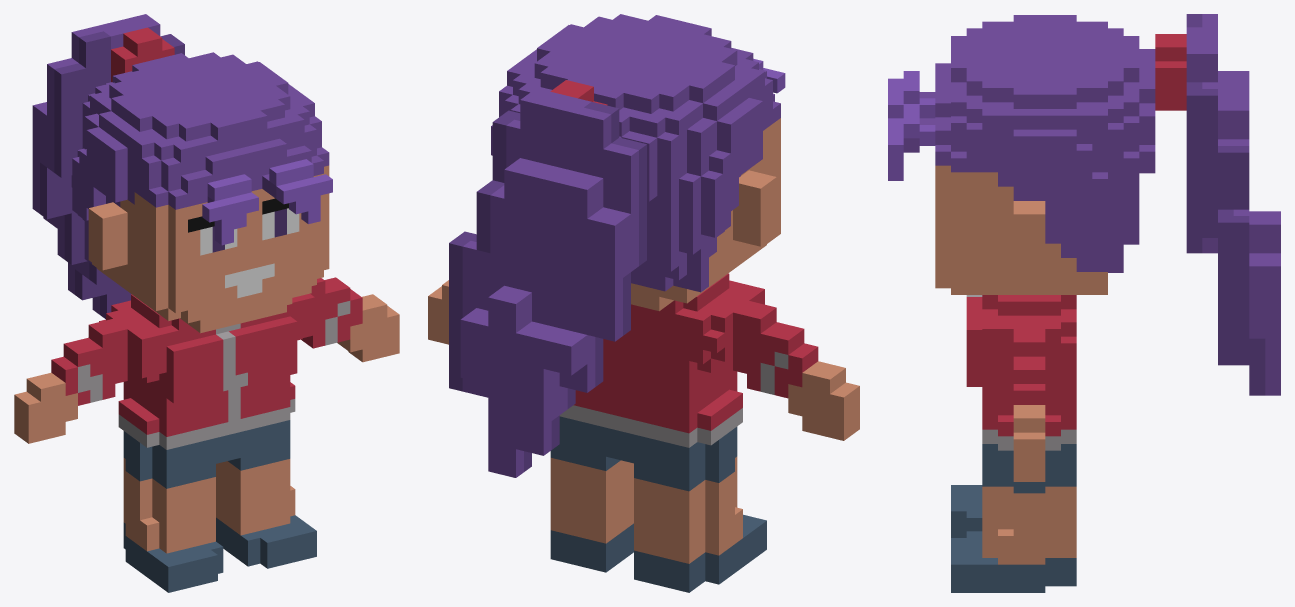
File: cool-trainer.obj
3 views of the same model, side by side, from view 1: azimuth 30°, elevation 25°; view 2: azimuth 150°, elevation 25°; view 3: azimuth 270°, elevation 25° (orthographic). The views are drawn at different scales.
Bounding box in the file's own units: 3 × 3.6 × 2.5.
1 material, 1 textured.
